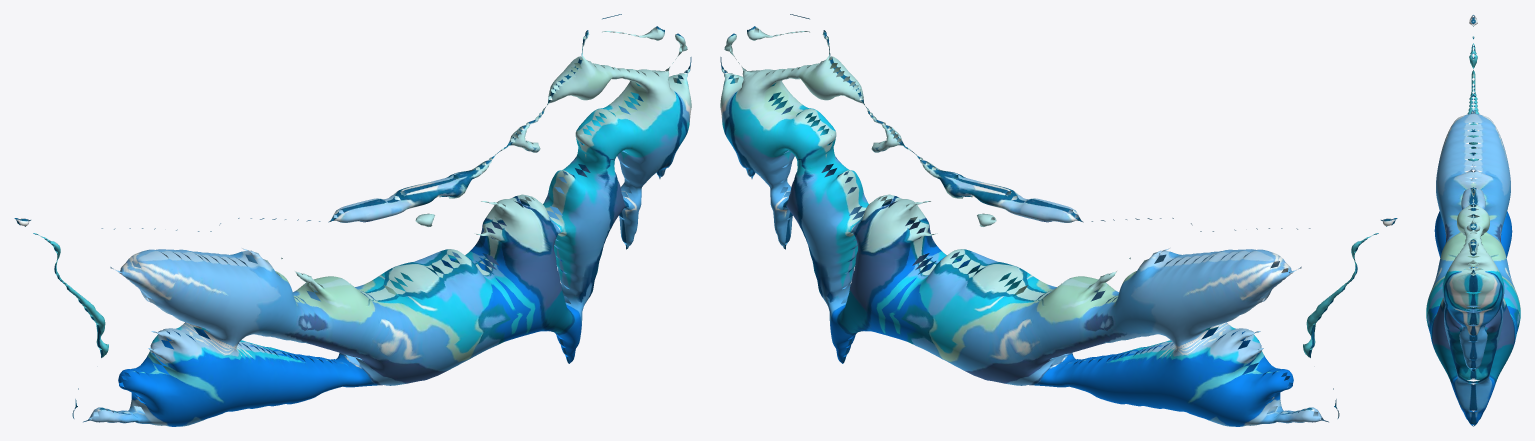
Rendered from front_ice_ledge.glb.
3 renders of one model, left to right at view 1: azimuth 30°, elevation 25°; view 2: azimuth 150°, elevation 25°; view 3: azimuth 270°, elevation 25°, orthographic. The views are drawn at different scales.
Visible parts, largest first — view 1: front_ice_ledge; view 2: front_ice_ledge; view 3: front_ice_ledge.
Boxes of the visible parts, left/top/right/bottom form: front_ice_ledge: left=14, top=14, right=691, bottom=426; front_ice_ledge: left=720, top=14, right=1397, bottom=426; front_ice_ledge: left=1426, top=15, right=1520, bottom=426.
Size of the model in its own units: 0.9902 by 0.4717 by 0.1604.
1 material, 1 textured.
